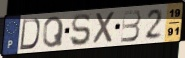2: (143, 8, 164, 42)
B: (120, 9, 143, 44)
D: (18, 17, 41, 51)
Q: (42, 15, 65, 49)
S: (69, 12, 92, 47)
X: (92, 10, 117, 46)
